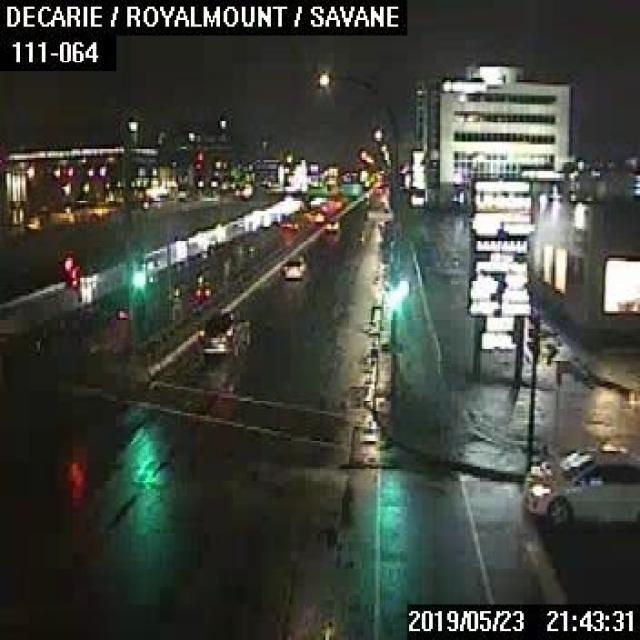vehicle: (518, 451, 638, 531), (198, 311, 251, 356), (280, 255, 304, 278), (192, 282, 210, 296), (323, 218, 338, 232)
